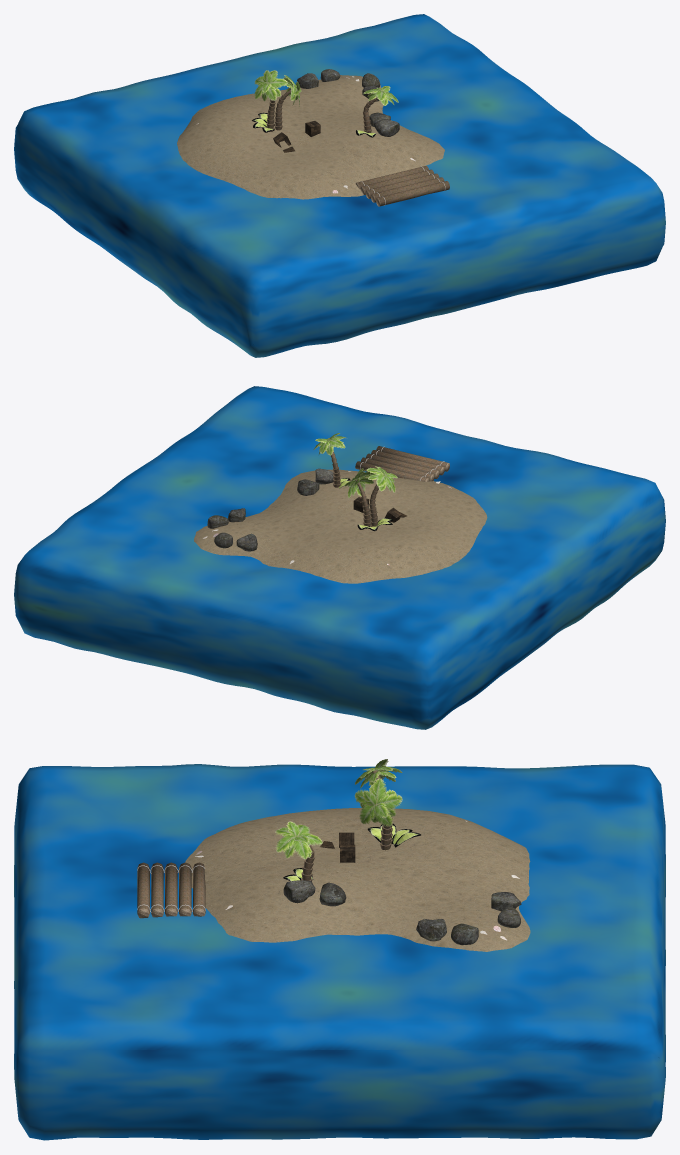
3 renders of one model, top to bottom at view 1: azimuth 30°, elevation 25°; view 2: azimuth 150°, elevation 25°; view 3: azimuth 270°, elevation 25°, orthographic. The views are drawn at different scales.
Visible parts, largest first — view 1: Isola, Atollo, Tronchi; view 2: Isola, Atollo, Tronchi; view 3: Isola, Atollo, Tronchi, Foglie, Sasso1, RefUman/Chest, Sasso3.
Boxes of the visible parts, bbox=[...] form: Isola: bbox=[14, 14, 665, 357]; Atollo: bbox=[177, 75, 444, 199]; Tronchi: bbox=[355, 166, 449, 206]; Isola: bbox=[14, 386, 665, 729]; Atollo: bbox=[194, 469, 487, 583]; Tronchi: bbox=[355, 446, 449, 481]; Isola: bbox=[14, 764, 665, 1140]; Atollo: bbox=[185, 808, 530, 951]; Tronchi: bbox=[137, 862, 205, 918]; Foglie: bbox=[283, 823, 420, 881]; Sasso1: bbox=[283, 880, 315, 903]; RefUman/Chest: bbox=[320, 832, 355, 862]; Sasso3: bbox=[416, 919, 446, 941].
Bounding box in the file's own units: 51.7 × 19.31 × 51.69.
Materials: 9 (8 with a texture image).
